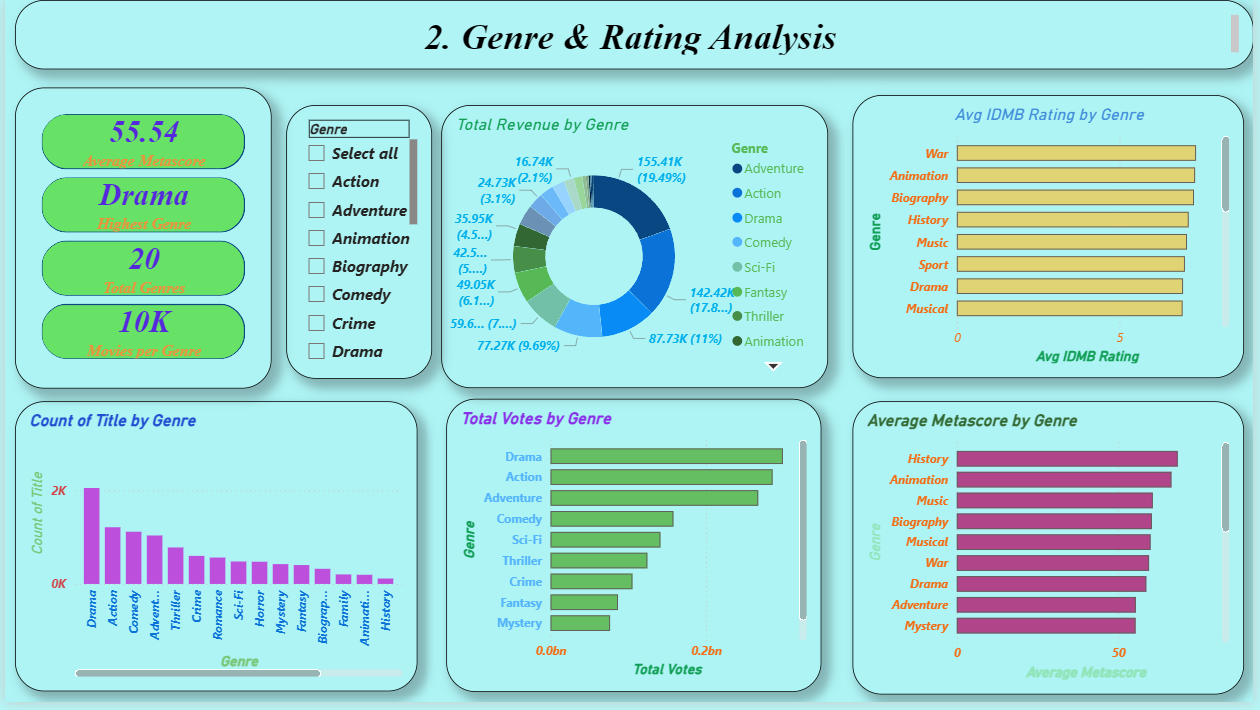

The dashboard page shown, as its layout file describes it:
{"tool":"powerbi","page":{"name":"Page 2","canvas":[1280,720],"ordinal":1},"visuals":[{"type":"textbox","box":[9.8,0,1270.5,70.9],"z":0},{"type":"clusteredColumnChart","fields":{"Category":["IMDB-Movie-Data.Genre"],"Y":["CountNonNull(IMDB-Movie-Data.Title)"]},"box":[9.7,411.4,412.6,298],"z":1000},{"type":"clusteredBarChart","fields":{"Category":["IMDB-Movie-Data.Genre"],"Y":["IMDB-Movie-Data.Avg Rating by Genre"]},"box":[869.8,97.7,401.7,290.8],"z":2000},{"type":"donutChart","fields":{"Category":["IMDB-Movie-Data.Genre"],"Y":["IMDB-Movie-Data.Total Revenue"]},"box":[447.6,107.4,396.9,290.8],"z":3000},{"type":"clusteredBarChart","fields":{"Category":["IMDB-Movie-Data.Genre"],"Y":["IMDB-Movie-Data.Average Metascore"]},"box":[869.8,411.4,401.7,300.4],"z":4000},{"type":"clusteredBarChart","fields":{"Category":["IMDB-Movie-Data.Genre"],"Y":["IMDB-Movie-Data.Total Votes"]},"box":[452.4,409,384.9,300.4],"z":5000},{"type":"cardVisual","fields":{"Data":["IMDB-Movie-Data.Average Metascore","IMDB-Movie-Data.Highest Genre","IMDB-Movie-Data.Total Genres","IMDB-Movie-Data.Movies per Genre"]},"box":[9.7,89.3,263,308.8],"z":6000},{"type":"slicer","fields":{"Values":["IMDB-Movie-Data.Genre"]},"box":[288.3,107.4,149.6,281.1],"z":7000}]}

Visuals, with their boxes in screenshot pixels (x1, y1, x2, y2), scaled from the page's 1280x720 canvas onto the 1260x710 screenshot:
textbox: {"x1": 10, "y1": 0, "x2": 1259, "y2": 70}
clusteredColumnChart - IMDB-Movie-Data.Genre x CountNonNull(IMDB-Movie-Data.Title): {"x1": 10, "y1": 406, "x2": 416, "y2": 700}
clusteredBarChart - IMDB-Movie-Data.Genre x IMDB-Movie-Data.Avg Rating by Genre: {"x1": 856, "y1": 96, "x2": 1252, "y2": 383}
donutChart - IMDB-Movie-Data.Genre x IMDB-Movie-Data.Total Revenue: {"x1": 441, "y1": 106, "x2": 831, "y2": 393}
clusteredBarChart - IMDB-Movie-Data.Genre x IMDB-Movie-Data.Average Metascore: {"x1": 856, "y1": 406, "x2": 1252, "y2": 702}
clusteredBarChart - IMDB-Movie-Data.Genre x IMDB-Movie-Data.Total Votes: {"x1": 445, "y1": 403, "x2": 824, "y2": 700}
cardVisual - IMDB-Movie-Data.Average Metascore x IMDB-Movie-Data.Highest Genre: {"x1": 10, "y1": 88, "x2": 268, "y2": 393}
slicer - IMDB-Movie-Data.Genre: {"x1": 284, "y1": 106, "x2": 431, "y2": 383}
